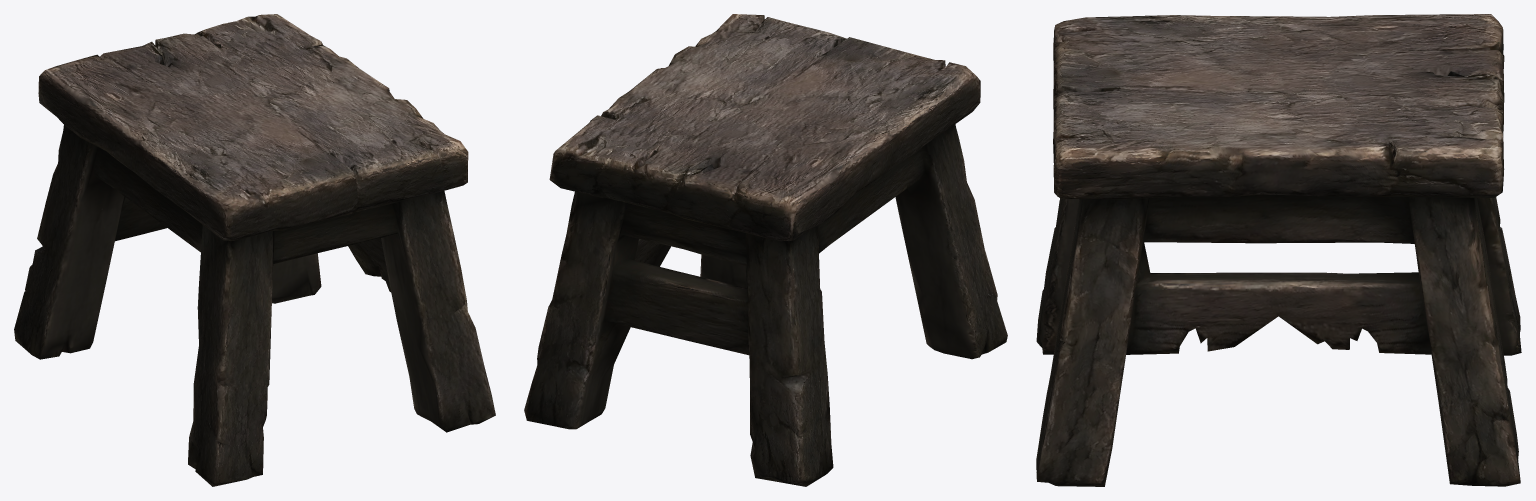
The model's file is rustic+wooden+stool+3d+model.glb.
3 renders of one model, left to right at view 1: azimuth 30°, elevation 25°; view 2: azimuth 150°, elevation 25°; view 3: azimuth 270°, elevation 25°, orthographic. The views are drawn at different scales.
Parts seen in each view (by area): view 1: tripo_node_be0324cb-efda-46e3-be09-bc578a10638e; view 2: tripo_node_be0324cb-efda-46e3-be09-bc578a10638e; view 3: tripo_node_be0324cb-efda-46e3-be09-bc578a10638e.
Part boxes in pixels (bbox=[...]): tripo_node_be0324cb-efda-46e3-be09-bc578a10638e: bbox=[14, 14, 495, 486]; tripo_node_be0324cb-efda-46e3-be09-bc578a10638e: bbox=[524, 14, 1007, 486]; tripo_node_be0324cb-efda-46e3-be09-bc578a10638e: bbox=[1036, 14, 1521, 486].
Bounding box in the file's own units: 0.7977 × 0.7401 × 1.
1 material, 1 textured.
